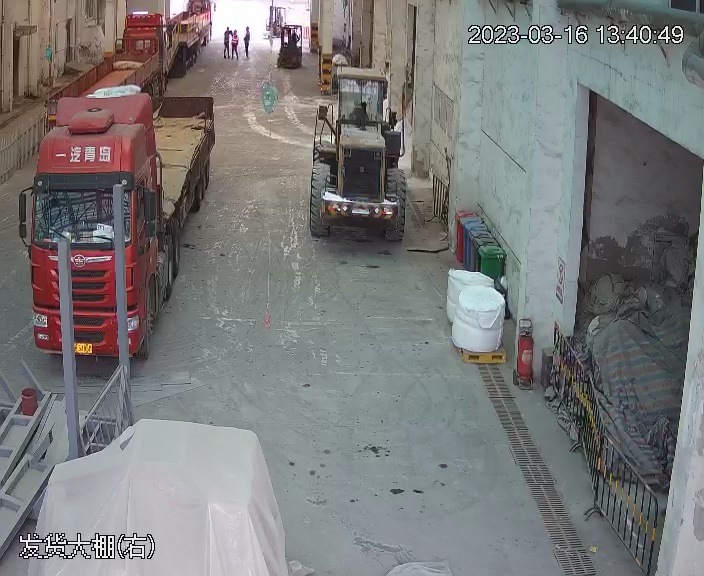people: (223, 26, 231, 61), (232, 29, 240, 61), (244, 26, 251, 58)
truck: (20, 91, 219, 364), (43, 13, 174, 123), (168, 1, 218, 43)
